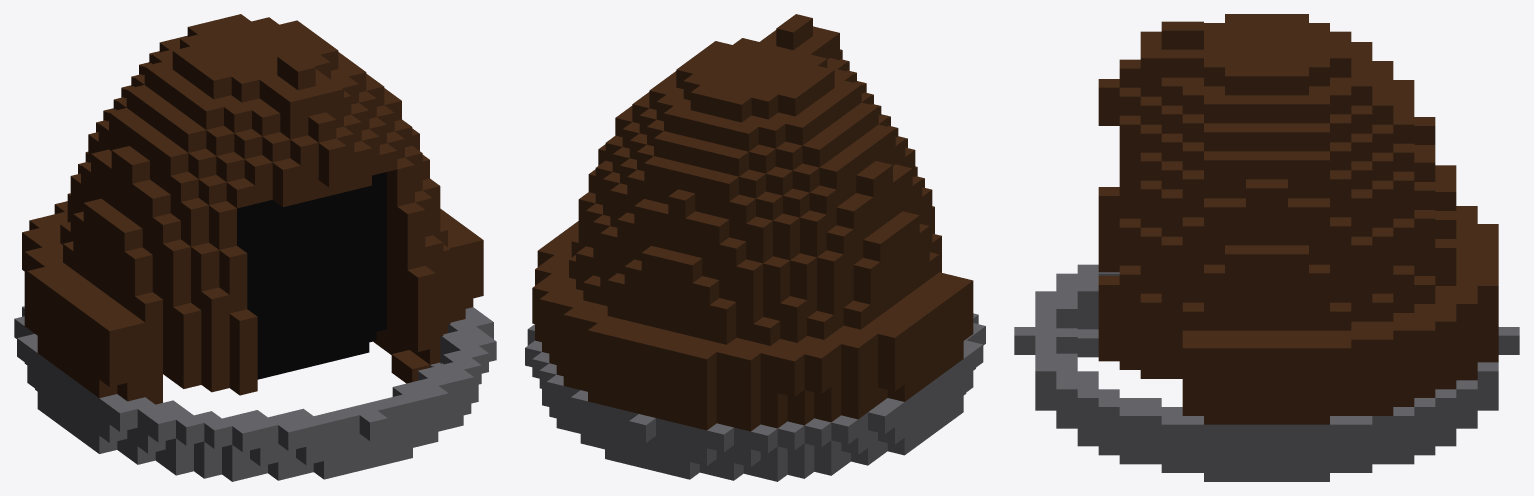
The model's file is wool_hood_lod1.glb.
3 renders of one model, left to right at view 1: azimuth 30°, elevation 25°; view 2: azimuth 150°, elevation 25°; view 3: azimuth 270°, elevation 25°, orthographic. The views are drawn at different scales.
Parts seen in each view (by area): view 1: wool_hood_lod1; view 2: wool_hood_lod1; view 3: wool_hood_lod1.
Part boxes in pixels (x1,y1,x2,y2): wool_hood_lod1: (14, 14, 496, 481); wool_hood_lod1: (525, 14, 985, 481); wool_hood_lod1: (1014, 14, 1519, 481).
Bounding box in the file's own units: 0.504 × 0.456 × 0.576.
